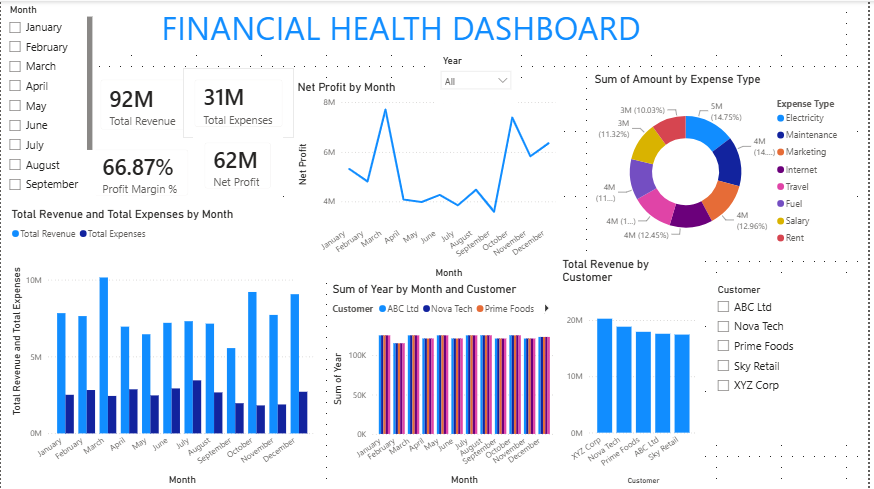

Layout of this report page (visuals, bound fields, positions):
{"tool":"powerbi","page":{"name":"executive dashboards","canvas":[1280,720],"ordinal":0},"visuals":[{"type":"cardVisual","fields":{"Data":["Sales.Total Revenue"]},"box":[130,98.6,164.3,108.6],"z":0},{"type":"cardVisual","fields":{"Data":["Expenses.Total Expenses"]},"box":[268.6,98.6,164.3,104.3],"z":1000},{"type":"cardVisual","fields":{"Data":["Sales.Profit Margin %"]},"box":[120,202.9,174.3,102.9],"z":2000},{"type":"cardVisual","fields":{"Data":["Sales.Net Profit"]},"box":[284.3,191.4,132.9,102.9],"z":3000},{"type":"clusteredColumnChart","fields":{"Category":["Calendar.Month"],"Y":["Sales.Total Revenue","Expenses.Total Expenses"]},"box":[10,304.3,460,415.7],"z":4000},{"type":"lineChart","fields":{"Category":["Calendar.Date.Variation.Date Hierarchy.Month"],"Y":["Sales.Net Profit"]},"box":[432.9,117.1,391.4,297.1],"z":5000},{"type":"donutChart","fields":{"Category":["Expenses.Expense Type"],"Y":["Sum(Expenses.Amount)"]},"box":[871.4,104.3,381.4,275.7],"z":6000},{"type":"clusteredColumnChart","fields":{"Category":["Sales.Customer"],"Y":["Sales.Total Revenue"]},"box":[824.3,378.6,210,341.4],"z":7000},{"type":"clusteredColumnChart","fields":{"Y":["Sum(Calendar.Year)"],"Category":["Calendar.Month"],"Series":["Sales.Customer"]},"box":[484.3,414.3,340,305.7],"z":8000},{"type":"textbox","box":[100,0,1054.3,75.7],"z":9000},{"type":"slicer","fields":{"Values":["Calendar.Year"]},"box":[640,75.7,124.3,75.7],"z":10000},{"type":"slicer","fields":{"Values":["Calendar.Month"]},"box":[0,0,140,290],"z":11000},{"type":"slicer","fields":{"Values":["Sales.Customer"]},"box":[1046.3,414.1,234.1,229.8],"z":12000}]}

Visuals, with their boxes in screenshot pixels (x1, y1, x2, y2), scaled from the page's 1280x720 canvas onto the 874x489 screenshot:
cardVisual - Sales.Total Revenue: [left=89, top=67, right=201, bottom=141]
cardVisual - Expenses.Total Expenses: [left=183, top=67, right=296, bottom=138]
cardVisual - Sales.Profit Margin %: [left=82, top=138, right=201, bottom=208]
cardVisual - Sales.Net Profit: [left=194, top=130, right=285, bottom=200]
clusteredColumnChart - Calendar.Month x Sales.Total Revenue: [left=7, top=207, right=321, bottom=488]
lineChart - Calendar.Date.Variation.Date Hierarchy.Month x Sales.Net Profit: [left=296, top=80, right=563, bottom=281]
donutChart - Expenses.Expense Type x Sum(Expenses.Amount): [left=595, top=71, right=855, bottom=258]
clusteredColumnChart - Sales.Customer x Sales.Total Revenue: [left=563, top=257, right=706, bottom=488]
clusteredColumnChart - Sum(Calendar.Year) x Calendar.Month: [left=331, top=281, right=563, bottom=488]
textbox: [left=68, top=0, right=788, bottom=51]
slicer - Calendar.Year: [left=437, top=51, right=522, bottom=103]
slicer - Calendar.Month: [left=0, top=0, right=96, bottom=197]
slicer - Sales.Customer: [left=714, top=281, right=873, bottom=437]
